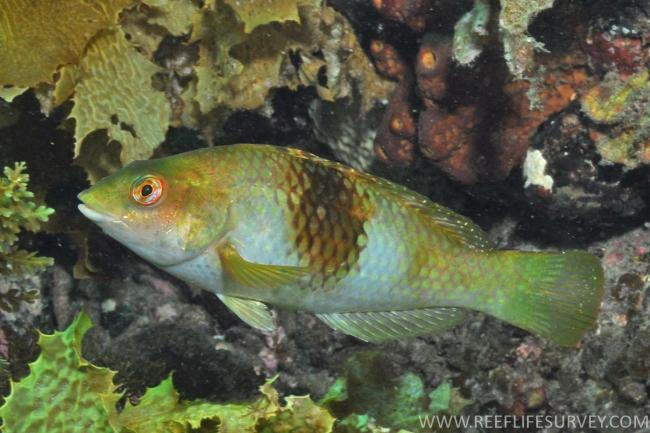fish: (78, 142, 605, 348)
